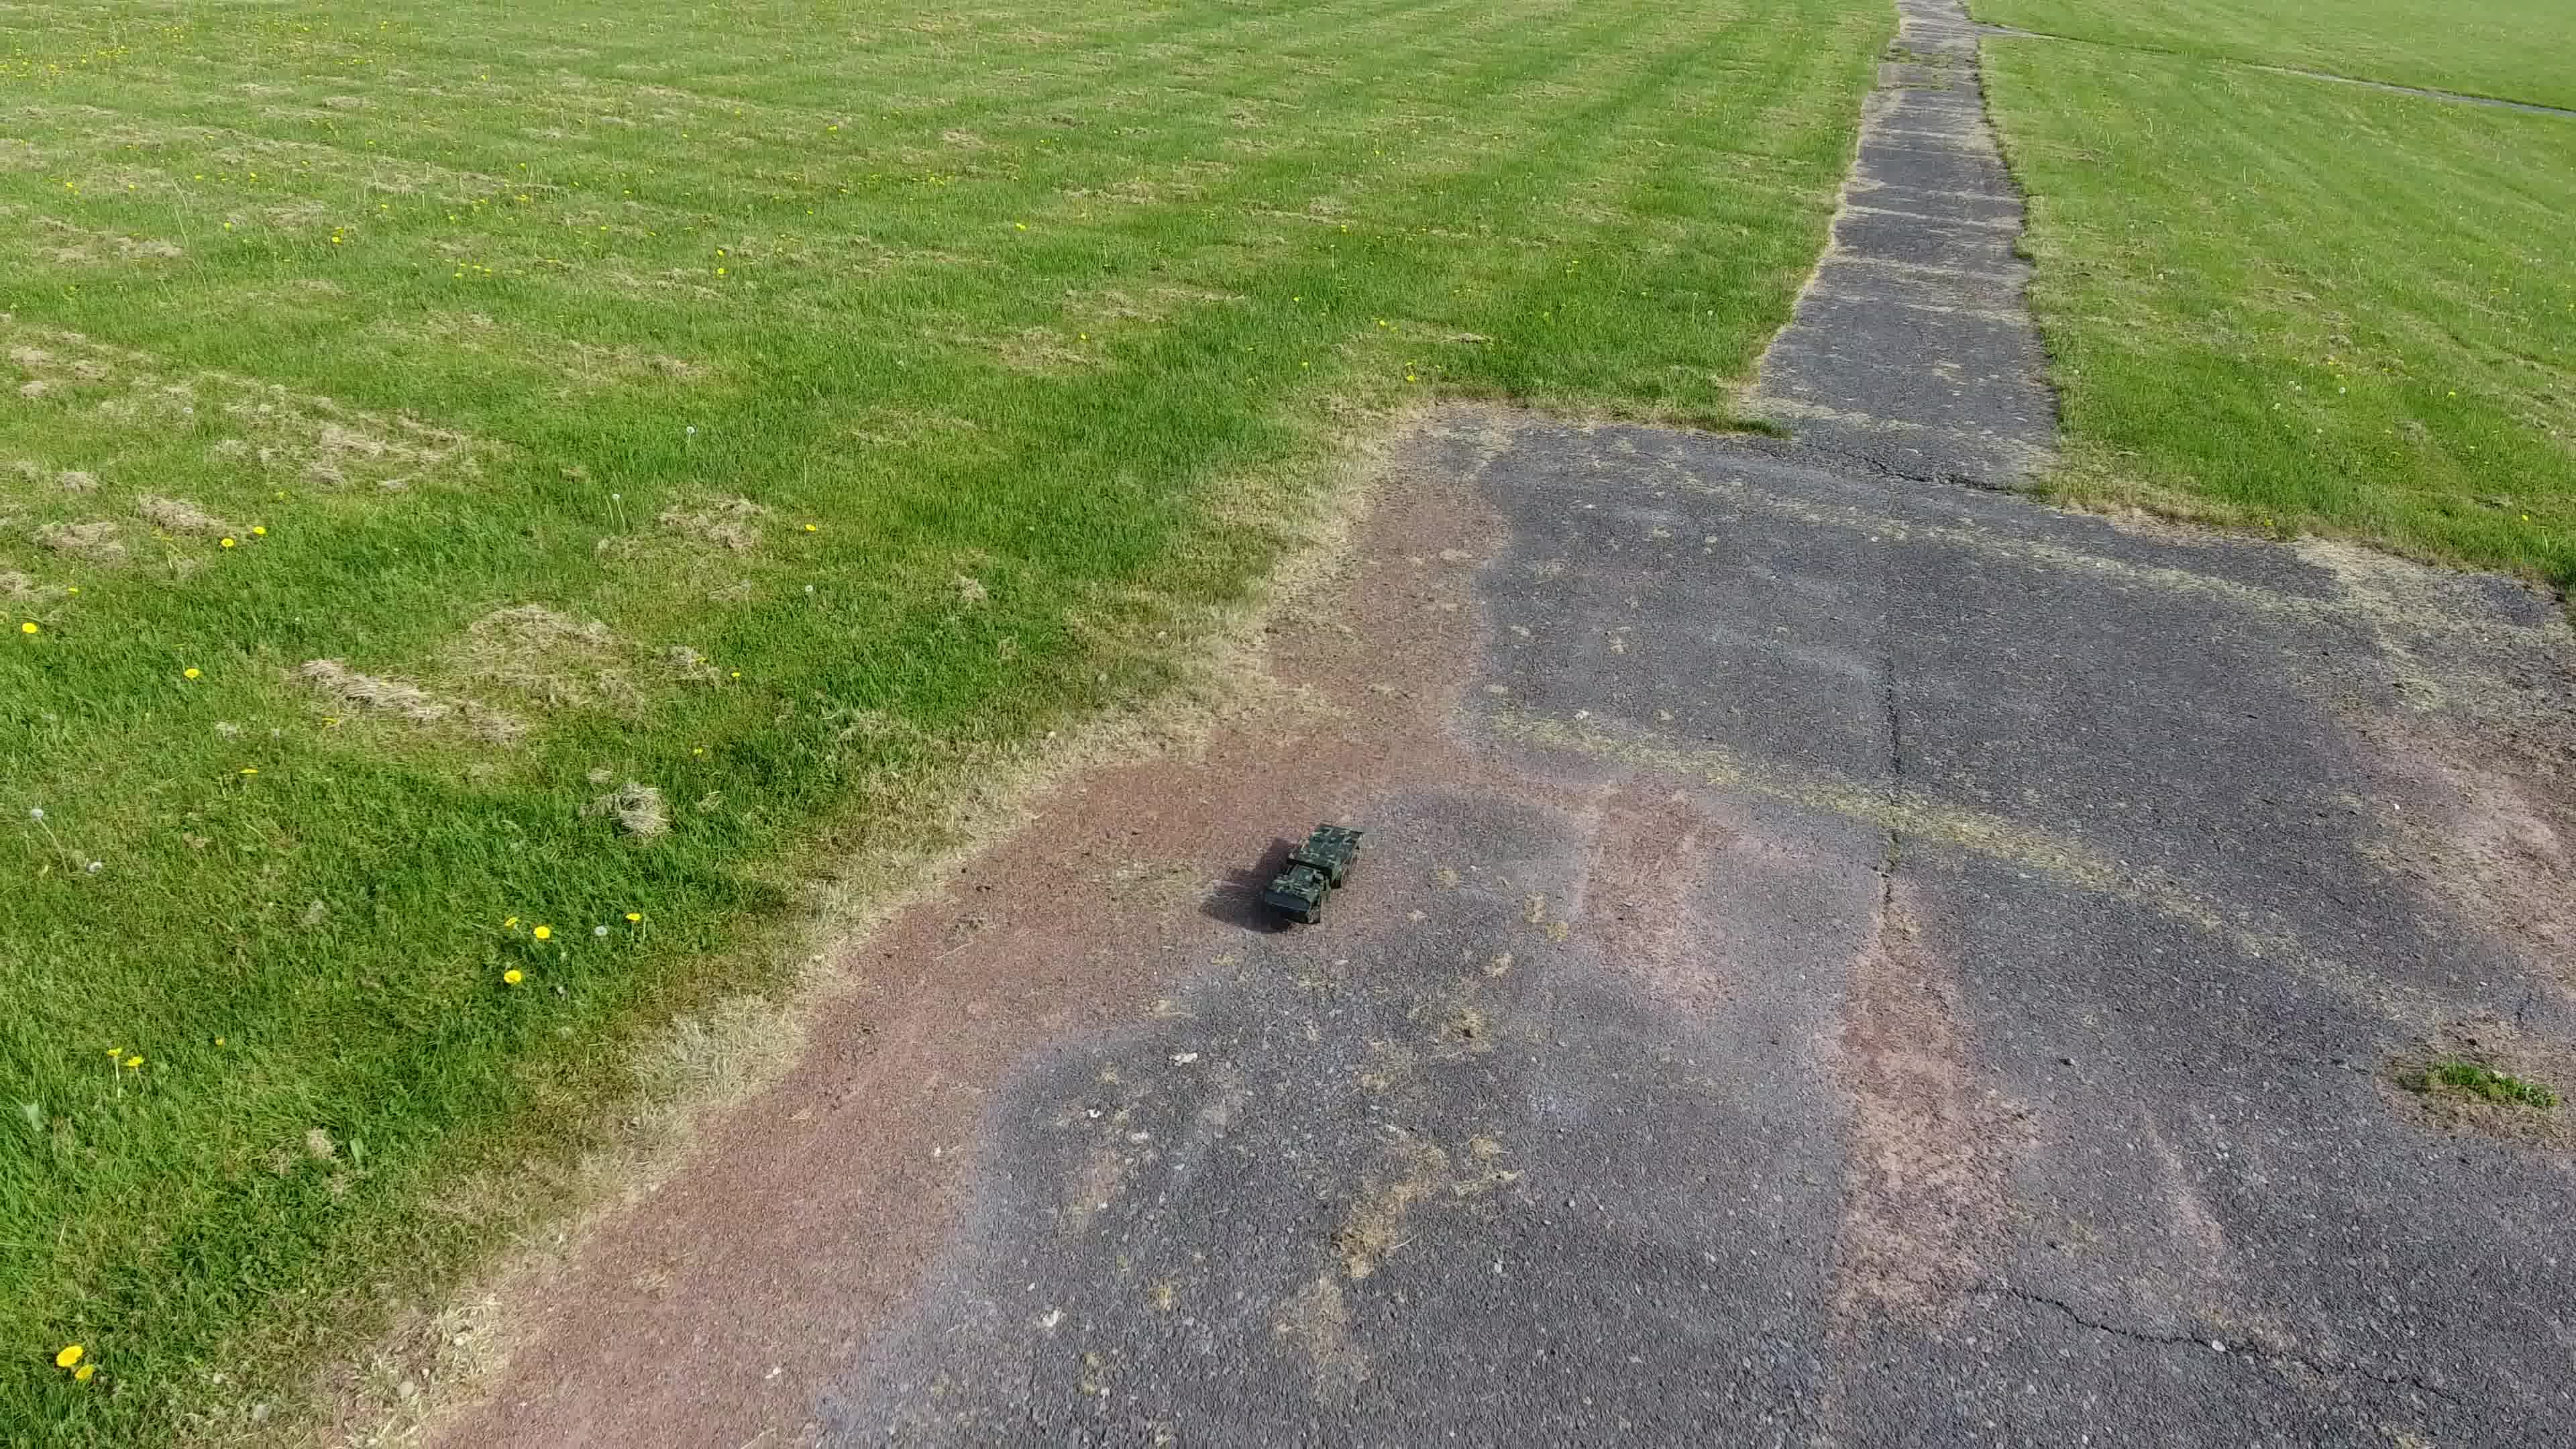transporter9_camo: (1253, 817, 1369, 927)
